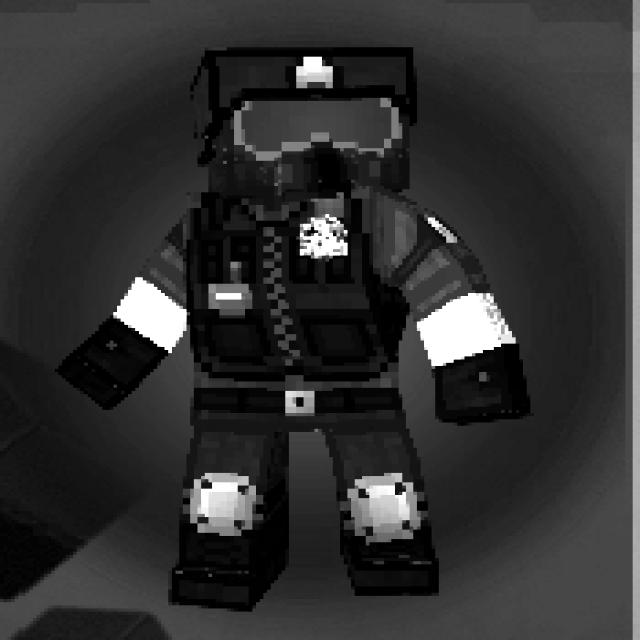Head: (189, 50, 414, 196)
Player: (59, 46, 531, 609)
